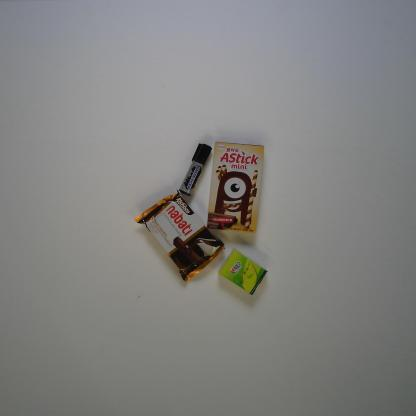Dessert: (134, 188, 226, 285), (206, 140, 265, 236)
Stationery: (178, 141, 212, 199)
Tissue: (218, 247, 268, 296)
